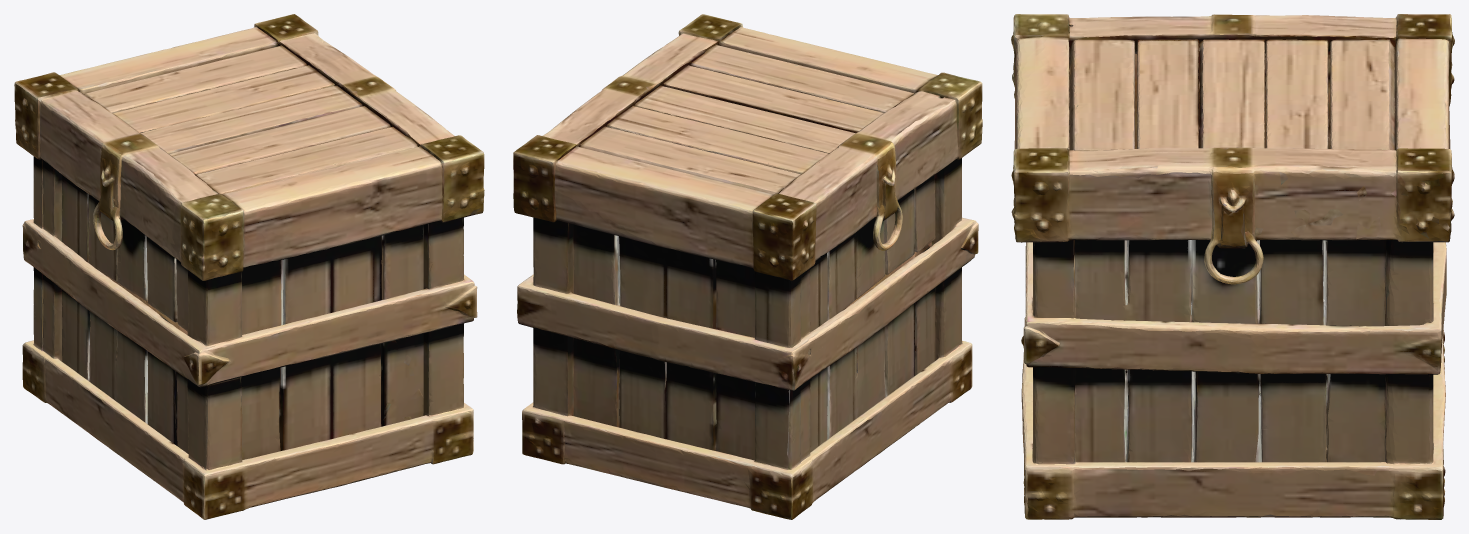
File: prop_wood_crate_small_01.glb
3 views of the same model, side by side, from view 1: azimuth 30°, elevation 25°; view 2: azimuth 150°, elevation 25°; view 3: azimuth 270°, elevation 25° (orthographic). The views are drawn at different scales.
Visible parts, largest first — view 1: geometry_0; view 2: geometry_0; view 3: geometry_0.
Part boxes in pixels (bbox=[...]): geometry_0: bbox=[14, 14, 484, 519]; geometry_0: bbox=[513, 14, 982, 519]; geometry_0: bbox=[1011, 14, 1454, 519].
Bounding box in the file's own units: 0.8778 × 0.8957 × 1.
Materials: 1 (1 with a texture image).
